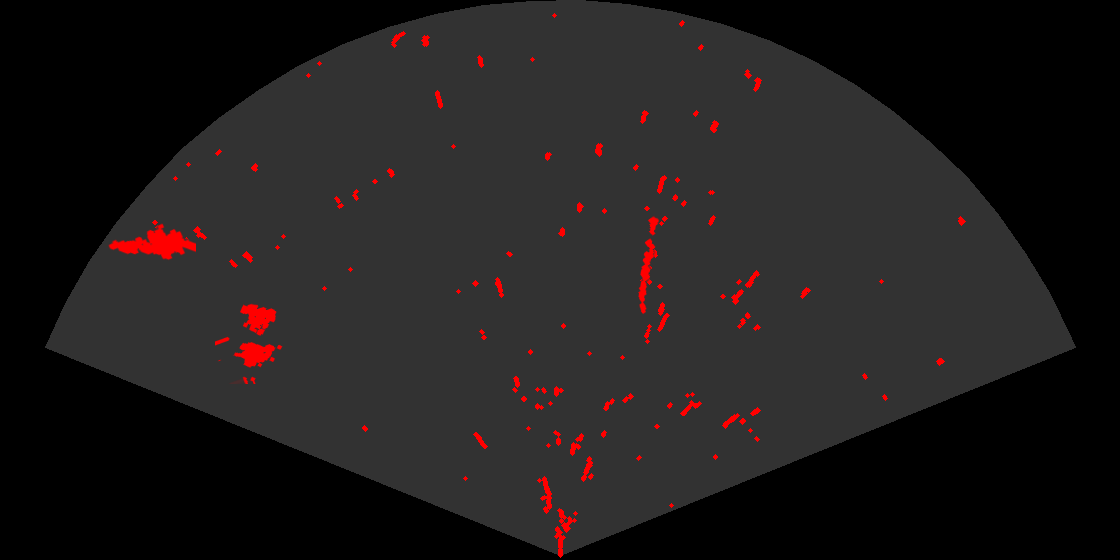cage: (215, 302, 284, 384)
chain: (637, 214, 660, 316)
frogman: (107, 222, 196, 262)
